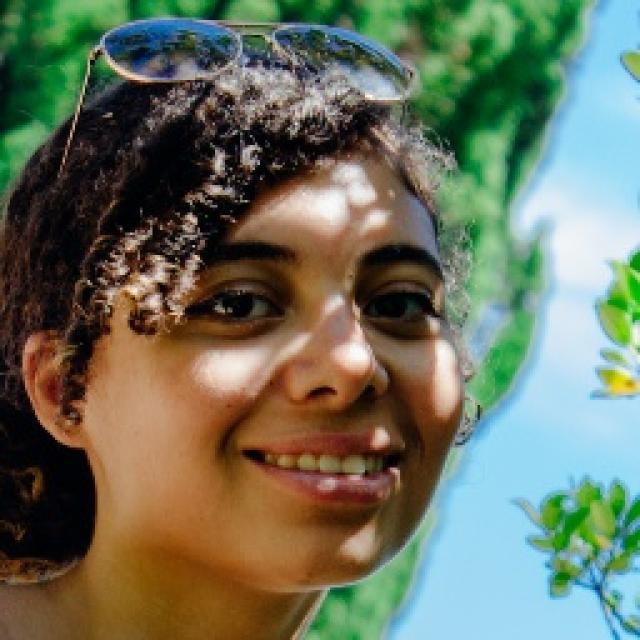earlobe: (19, 332, 92, 452)
